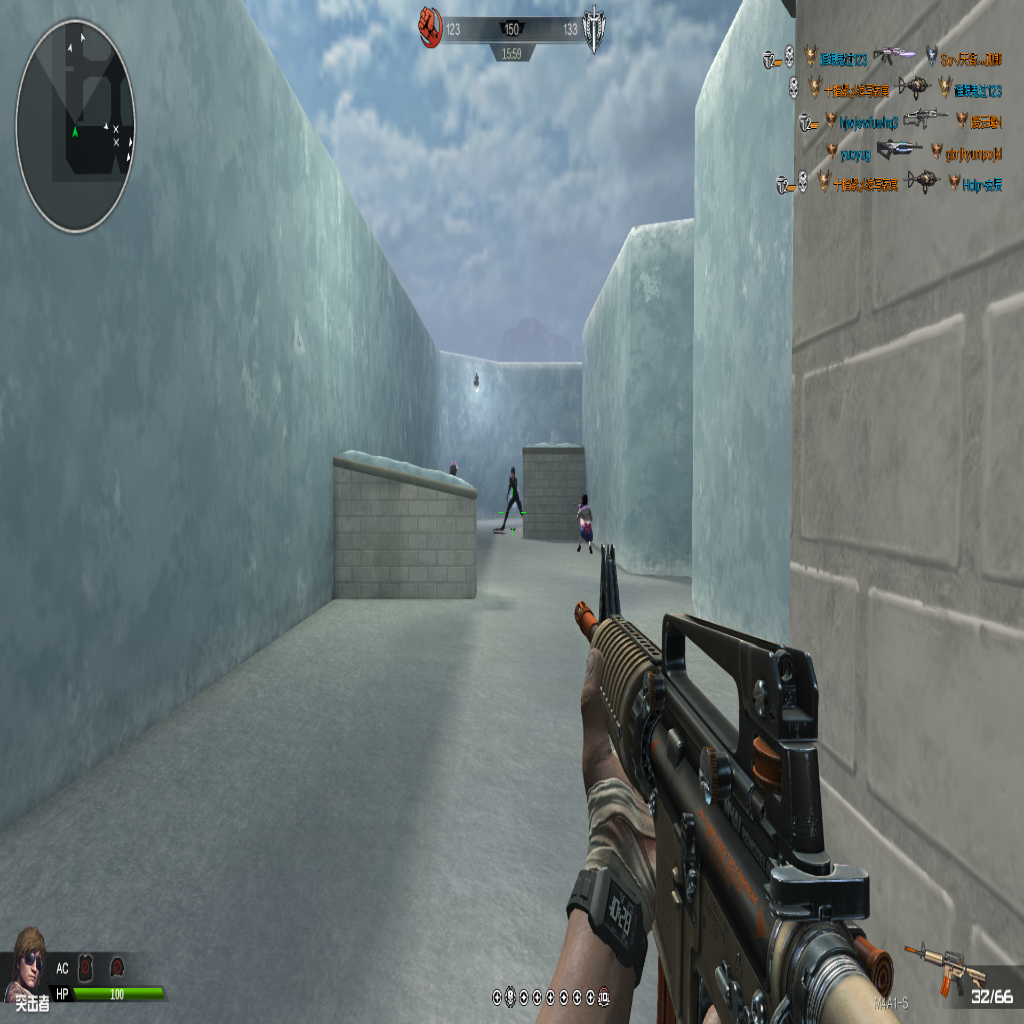ct: (501, 464, 524, 537)
tt: (576, 495, 594, 550), (449, 461, 459, 475)
